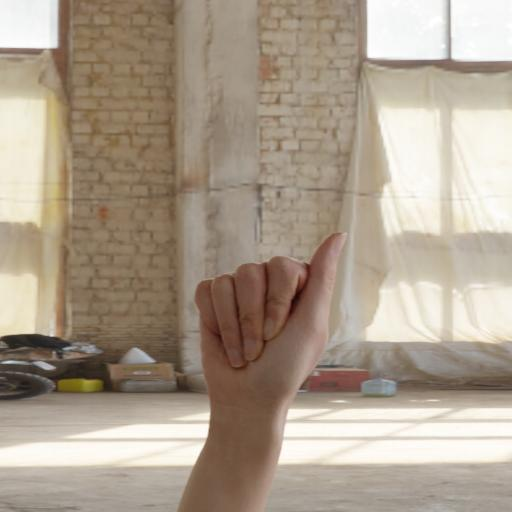A: (171, 210, 365, 472)
